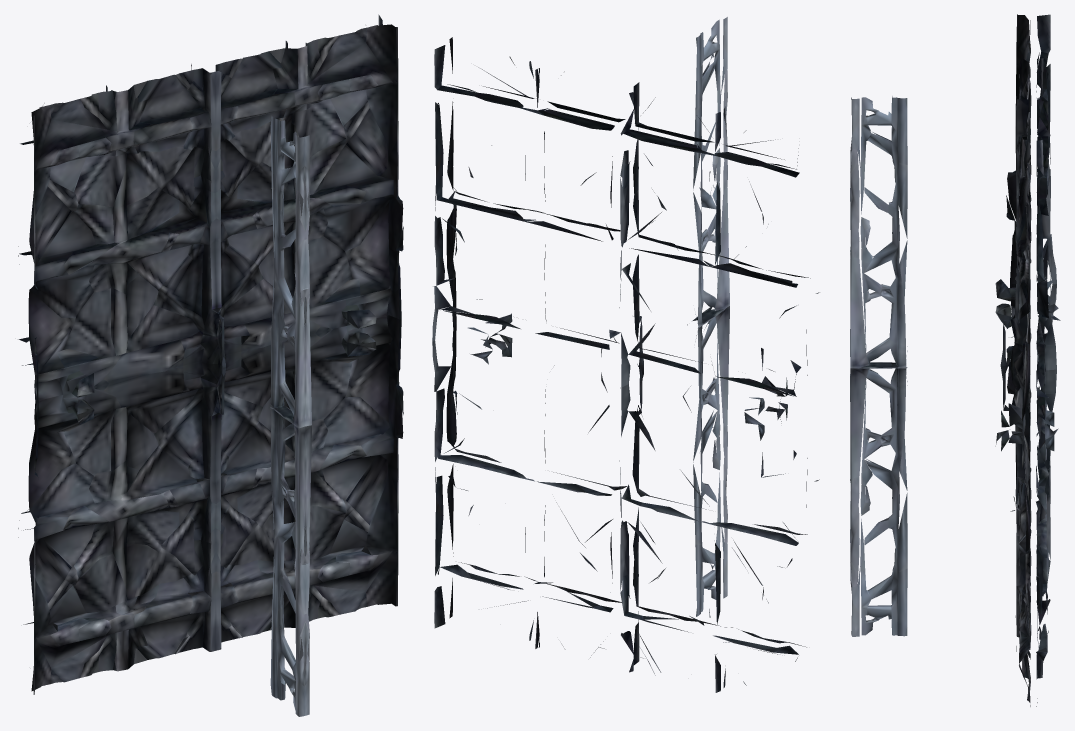
File: hangar_ceiling_tile.glb
The picture shows the model from 3 angles, left to right: view 1: azimuth 30°, elevation 25°; view 2: azimuth 150°, elevation 25°; view 3: azimuth 270°, elevation 25°; orthographic projection. The views are drawn at different scales.
Parts seen in each view (by area): view 1: tile; view 2: tile; view 3: tile.
Boxes of the visible parts, bbox=[...] form: tile: bbox=[18, 14, 403, 716]; tile: bbox=[432, 17, 819, 692]; tile: bbox=[850, 14, 1060, 706].
Bounding box in the file's own units: 0.308 × 0.468 × 0.1663.
Materials: 1 (1 with a texture image).
